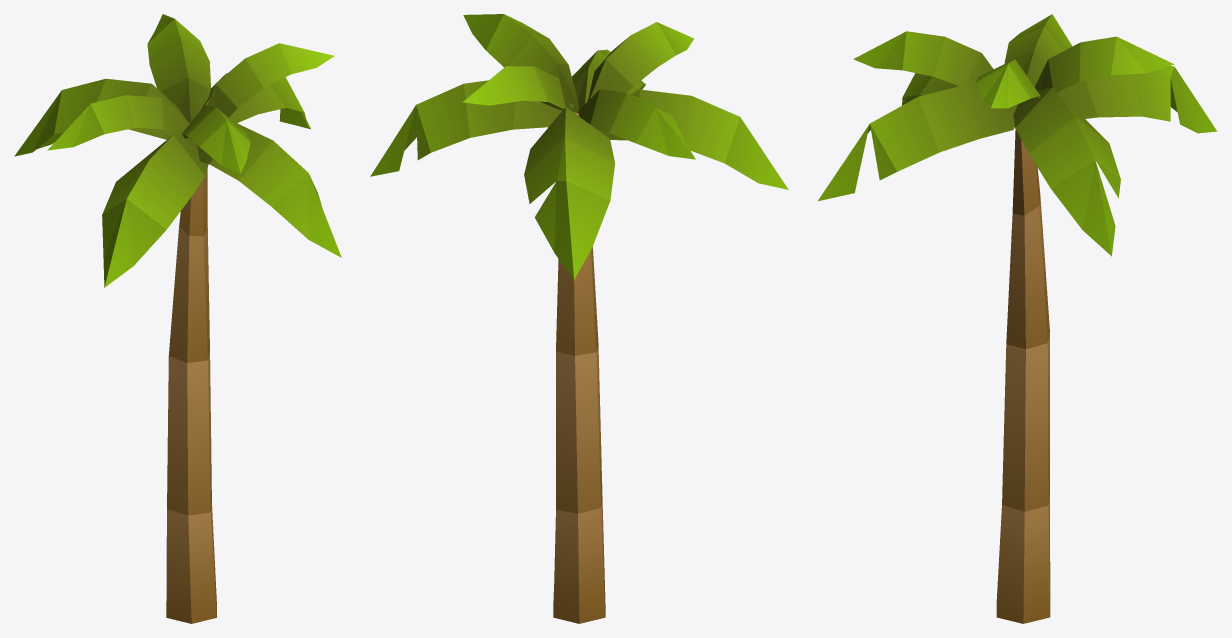
File: Palm_Tree_C.fbx
The picture shows the model from 3 angles, left to right: view 1: azimuth 30°, elevation 25°; view 2: azimuth 150°, elevation 25°; view 3: azimuth 270°, elevation 25°; orthographic projection. The views are drawn at different scales.
Parts seen in each view (by area): view 1: Palm_Tree_C; view 2: Palm_Tree_C; view 3: Palm_Tree_C.
Boxes of the visible parts, box(x1,y1,x2,y2) form: Palm_Tree_C: box(14, 14, 341, 623); Palm_Tree_C: box(370, 14, 788, 623); Palm_Tree_C: box(818, 14, 1217, 623).
Size of the model in its own units: 272 by 290 by 470.
Materials: 1 (1 with a texture image).
